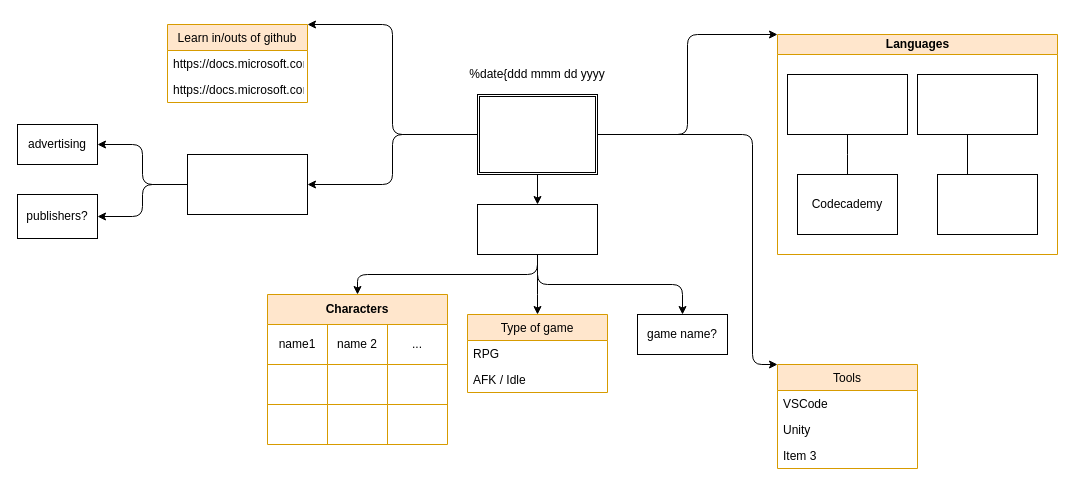
Image size: 1075x489. Some labels were removed from this diagram. Each missing label, with the centre of its shape:
C++: [977,104]
Develop a Game: [537,134]
How to deploy game: [247,184]
Kotlin: [847,104]
What is the game: [537,229]
